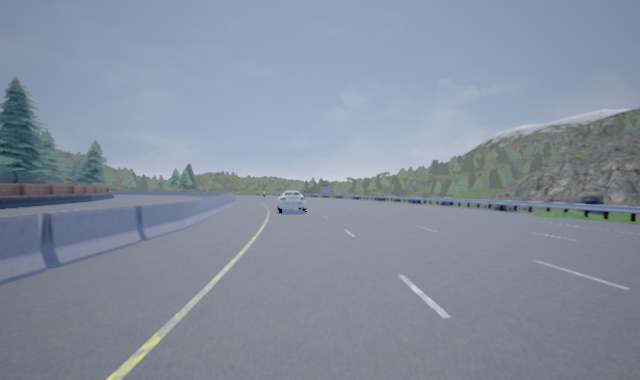vehicle: (276, 190, 308, 213)
